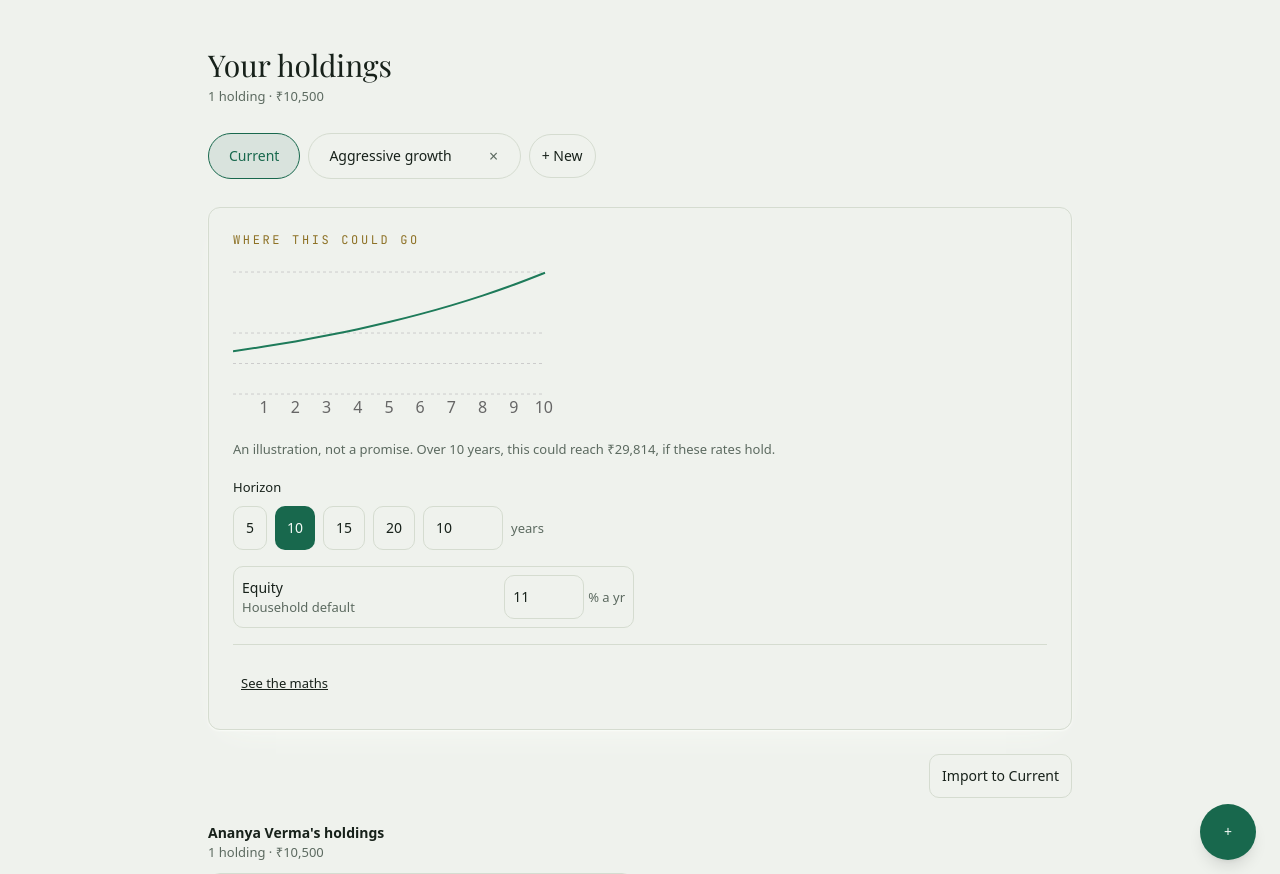
Test: Portfolio › Current never changes › deleting inside a non-baseline ledger drops only that ledger row and leaves Current unchanged
(page scrolled)
Click the tab "Aggressive growth" at (391, 156), box [313,134,468,178]
(page scrolled)
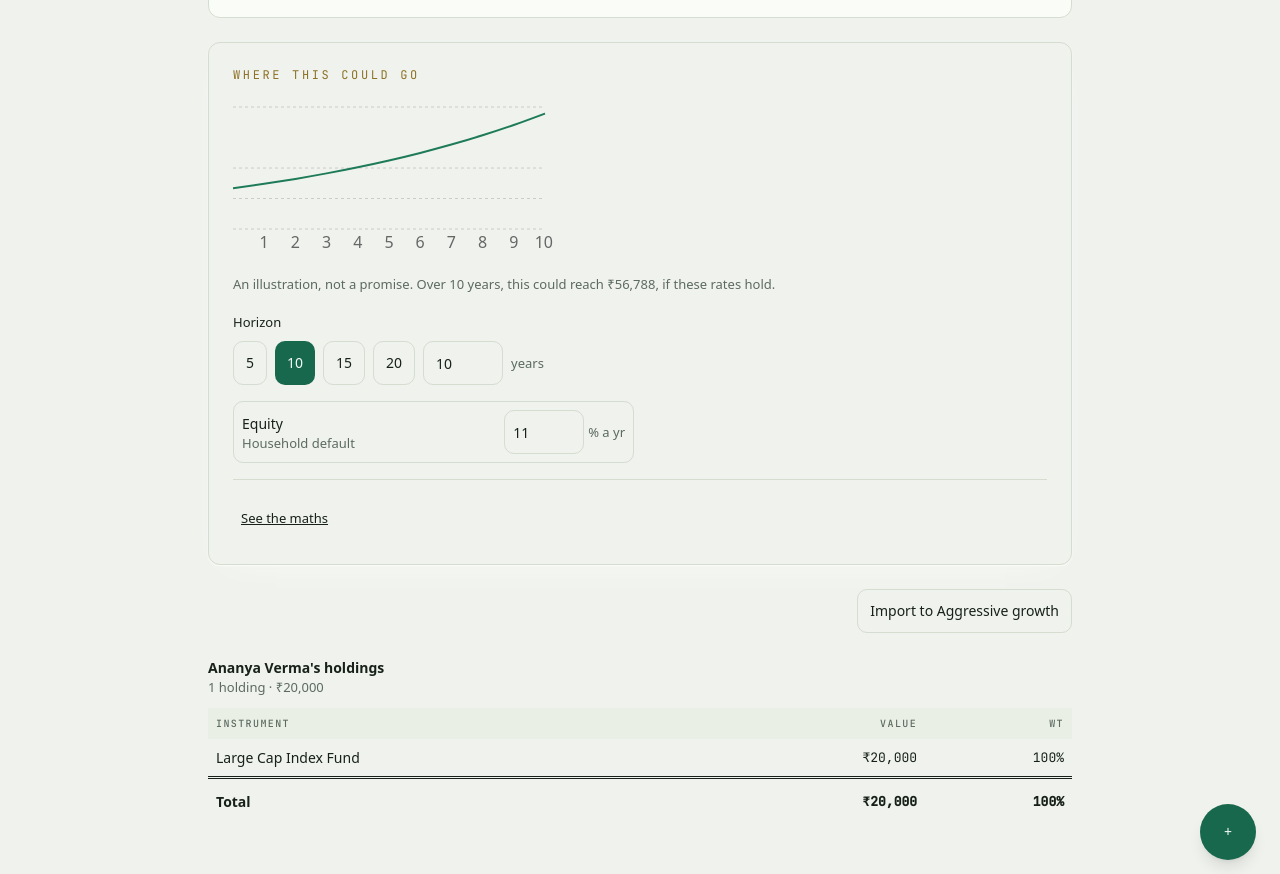
Click the button "Large Cap Index Fund ₹20,000 100%" at (288, 758), box [208,739,1072,778]
(page scrolled)
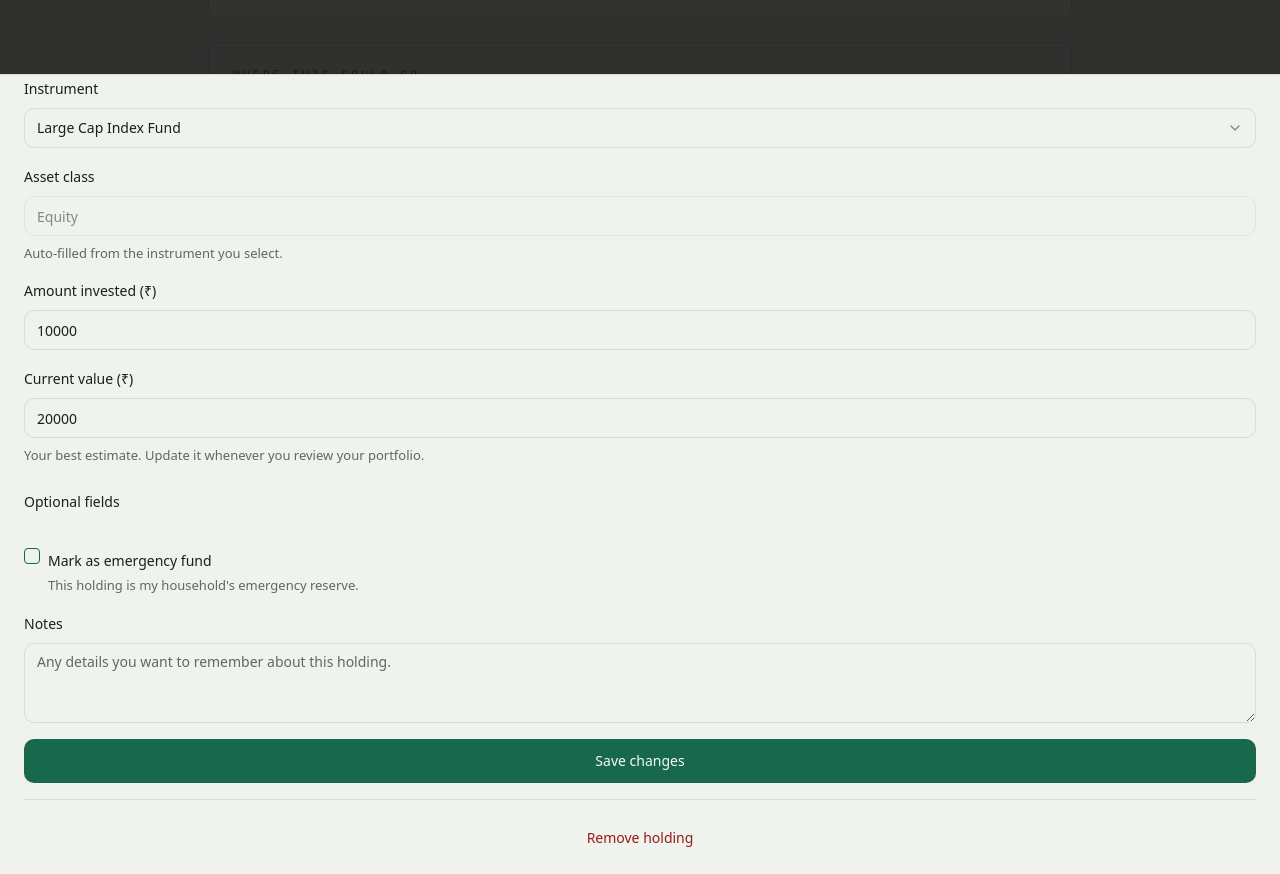
Click the button "Remove holding" at (640, 838), box [24,816,1256,860]
(page scrolled)
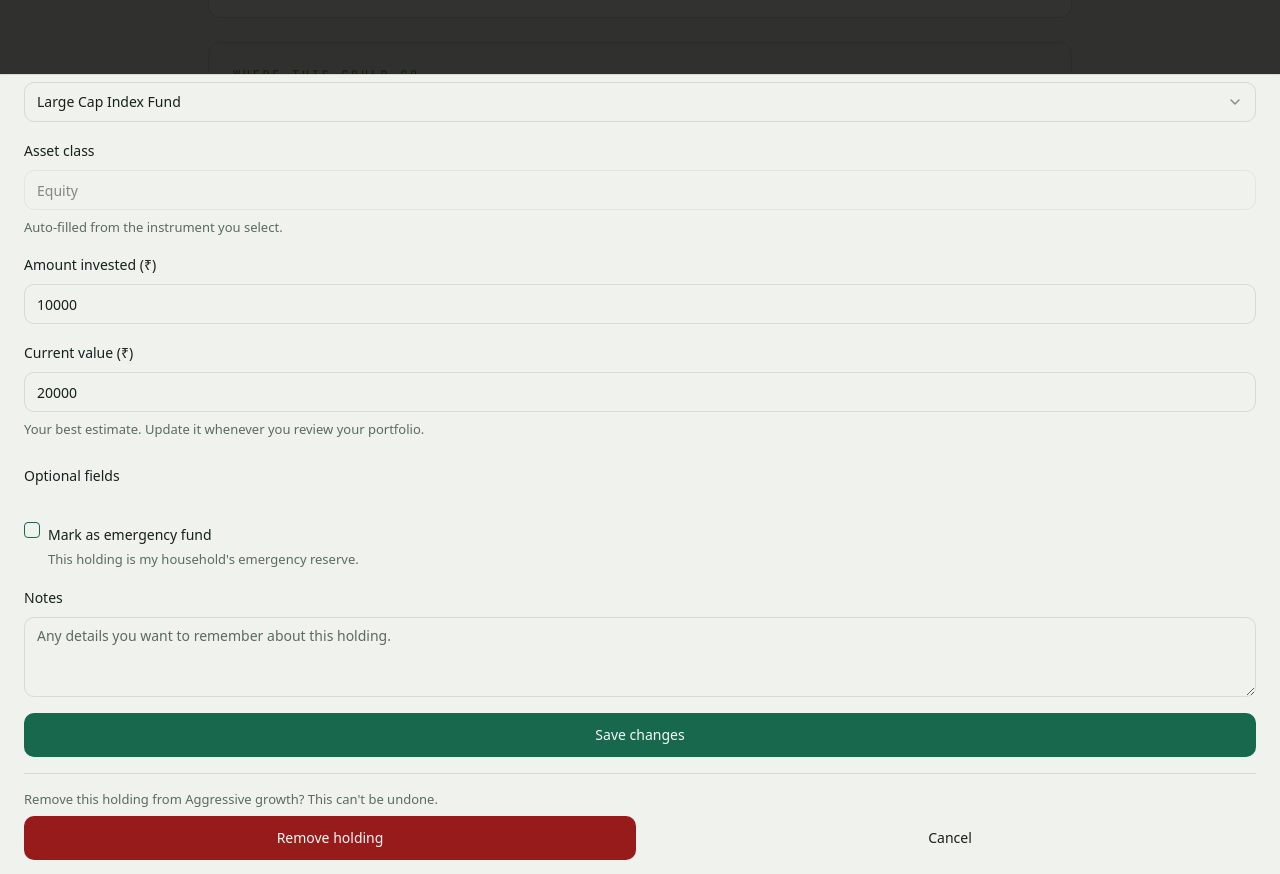
Click the button "Remove holding" at (330, 838), box [24,816,636,860]
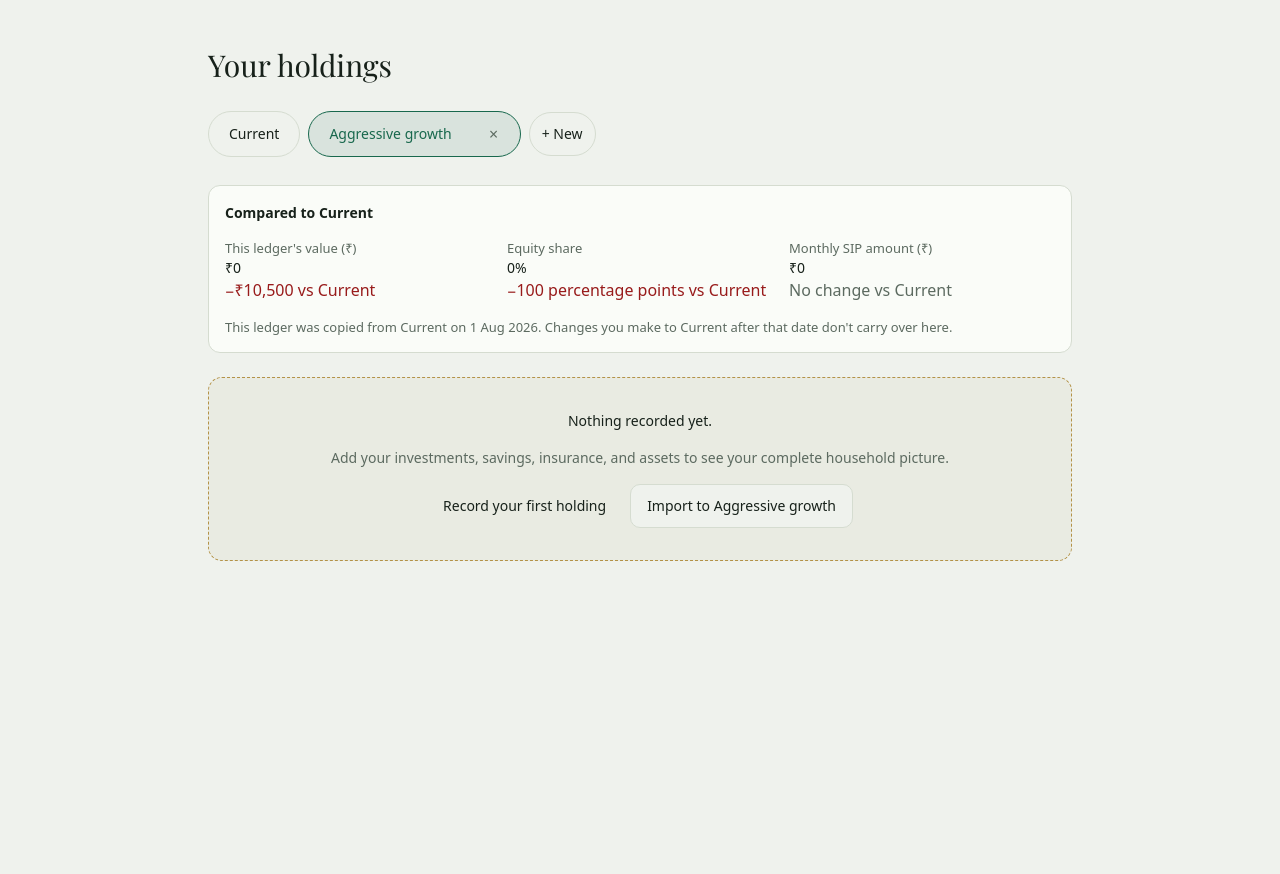
Expected: the text "Nothing recorded yet." is shown, [568,411,712,430]
// Current is untouched: still its one original holding at its original value.
Click the tab "Current" at (254, 134), box [213,112,295,156]
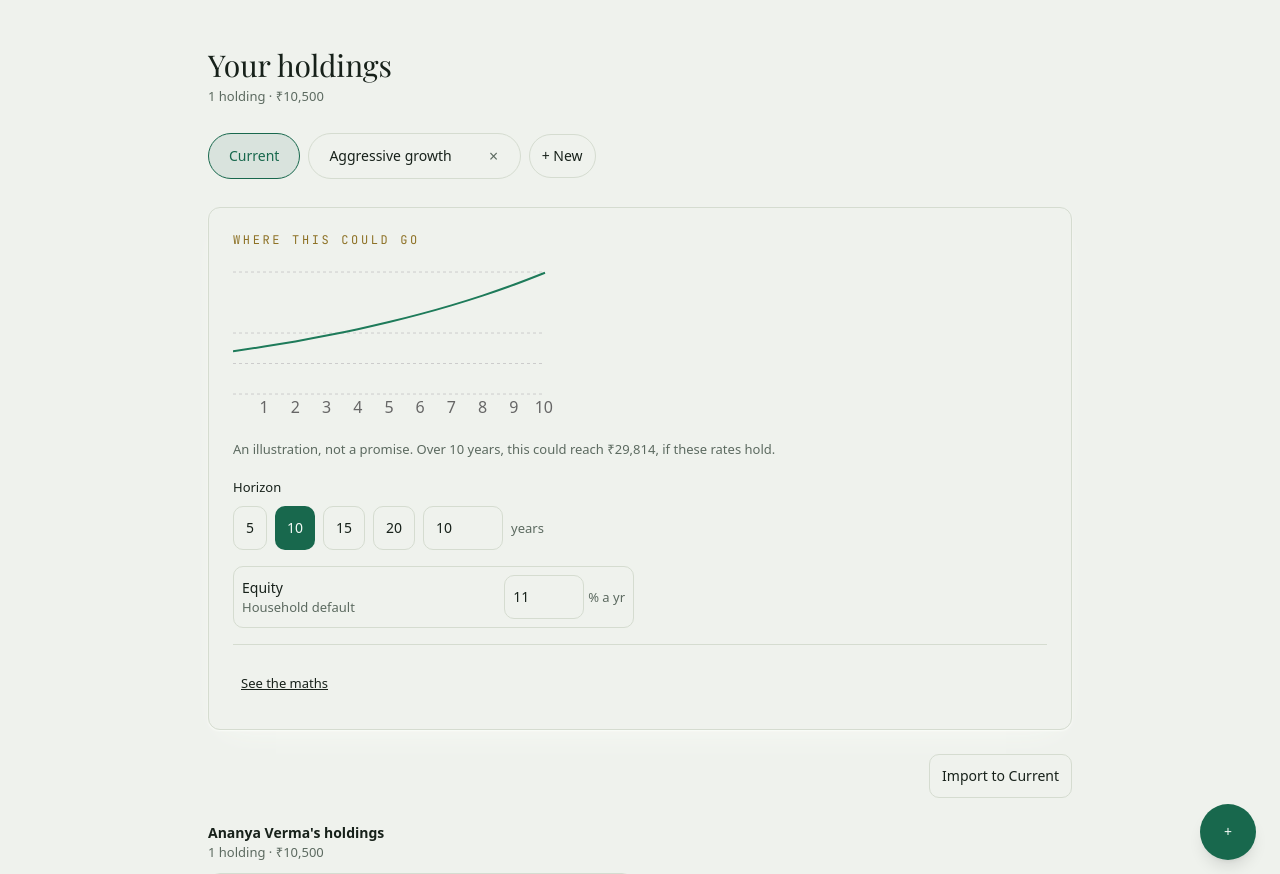
Expected: the text "1 holding · ₹10,500" is shown 2 times, [208,86,324,104]; [208,843,324,861]
